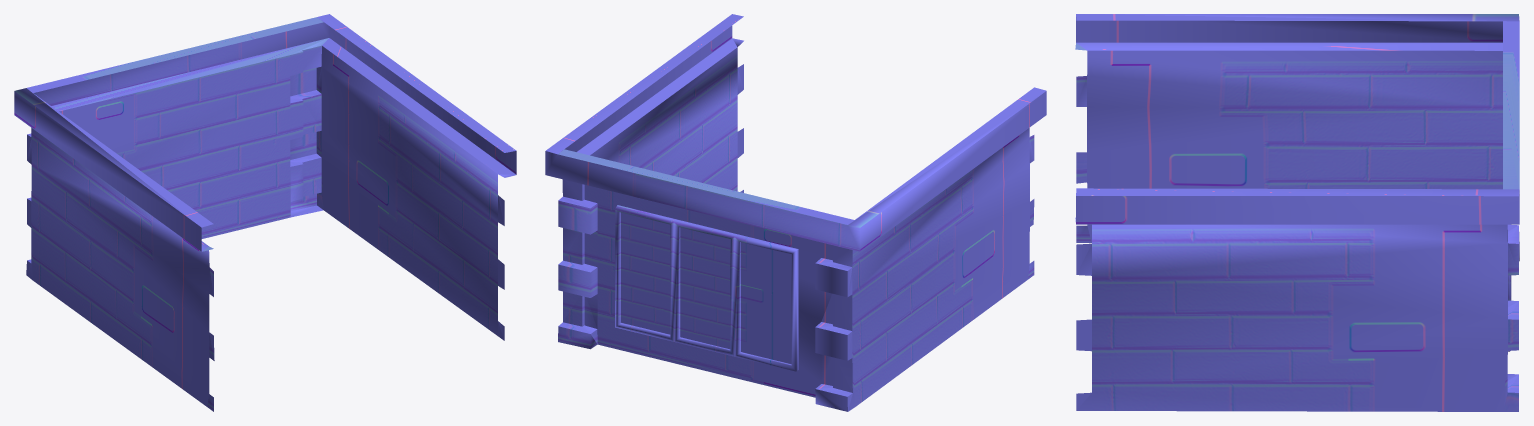
File: houseupperfull.fbx
3 renders of one model, left to right at view 1: azimuth 30°, elevation 25°; view 2: azimuth 150°, elevation 25°; view 3: azimuth 270°, elevation 25°, orthographic. The views are drawn at different scales.
Parts seen in each view (by area): view 1: UpperHouse; view 2: UpperHouse; view 3: UpperHouse.
Boxes of the visible parts, <box> form: UpperHouse: <box>14,14,516,411</box>; UpperHouse: <box>545,14,1046,411</box>; UpperHouse: <box>1075,14,1519,411</box>.
Size of the model in its own units: 131 by 75.19 by 135.
